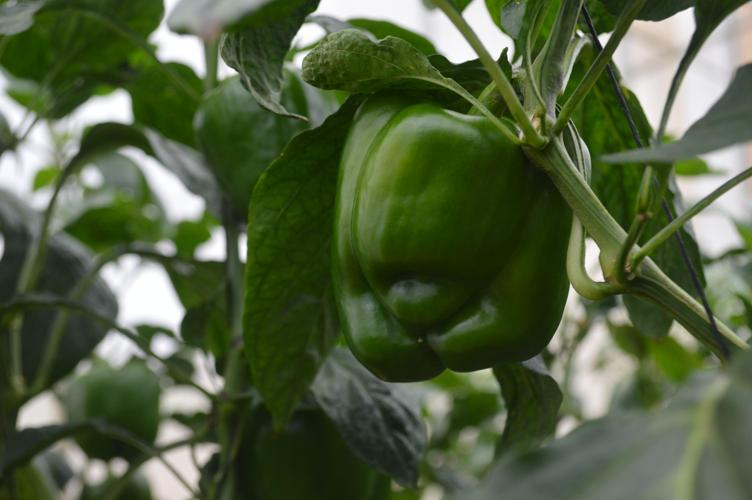BellPepper: (334, 97, 576, 371), (195, 72, 319, 201)
